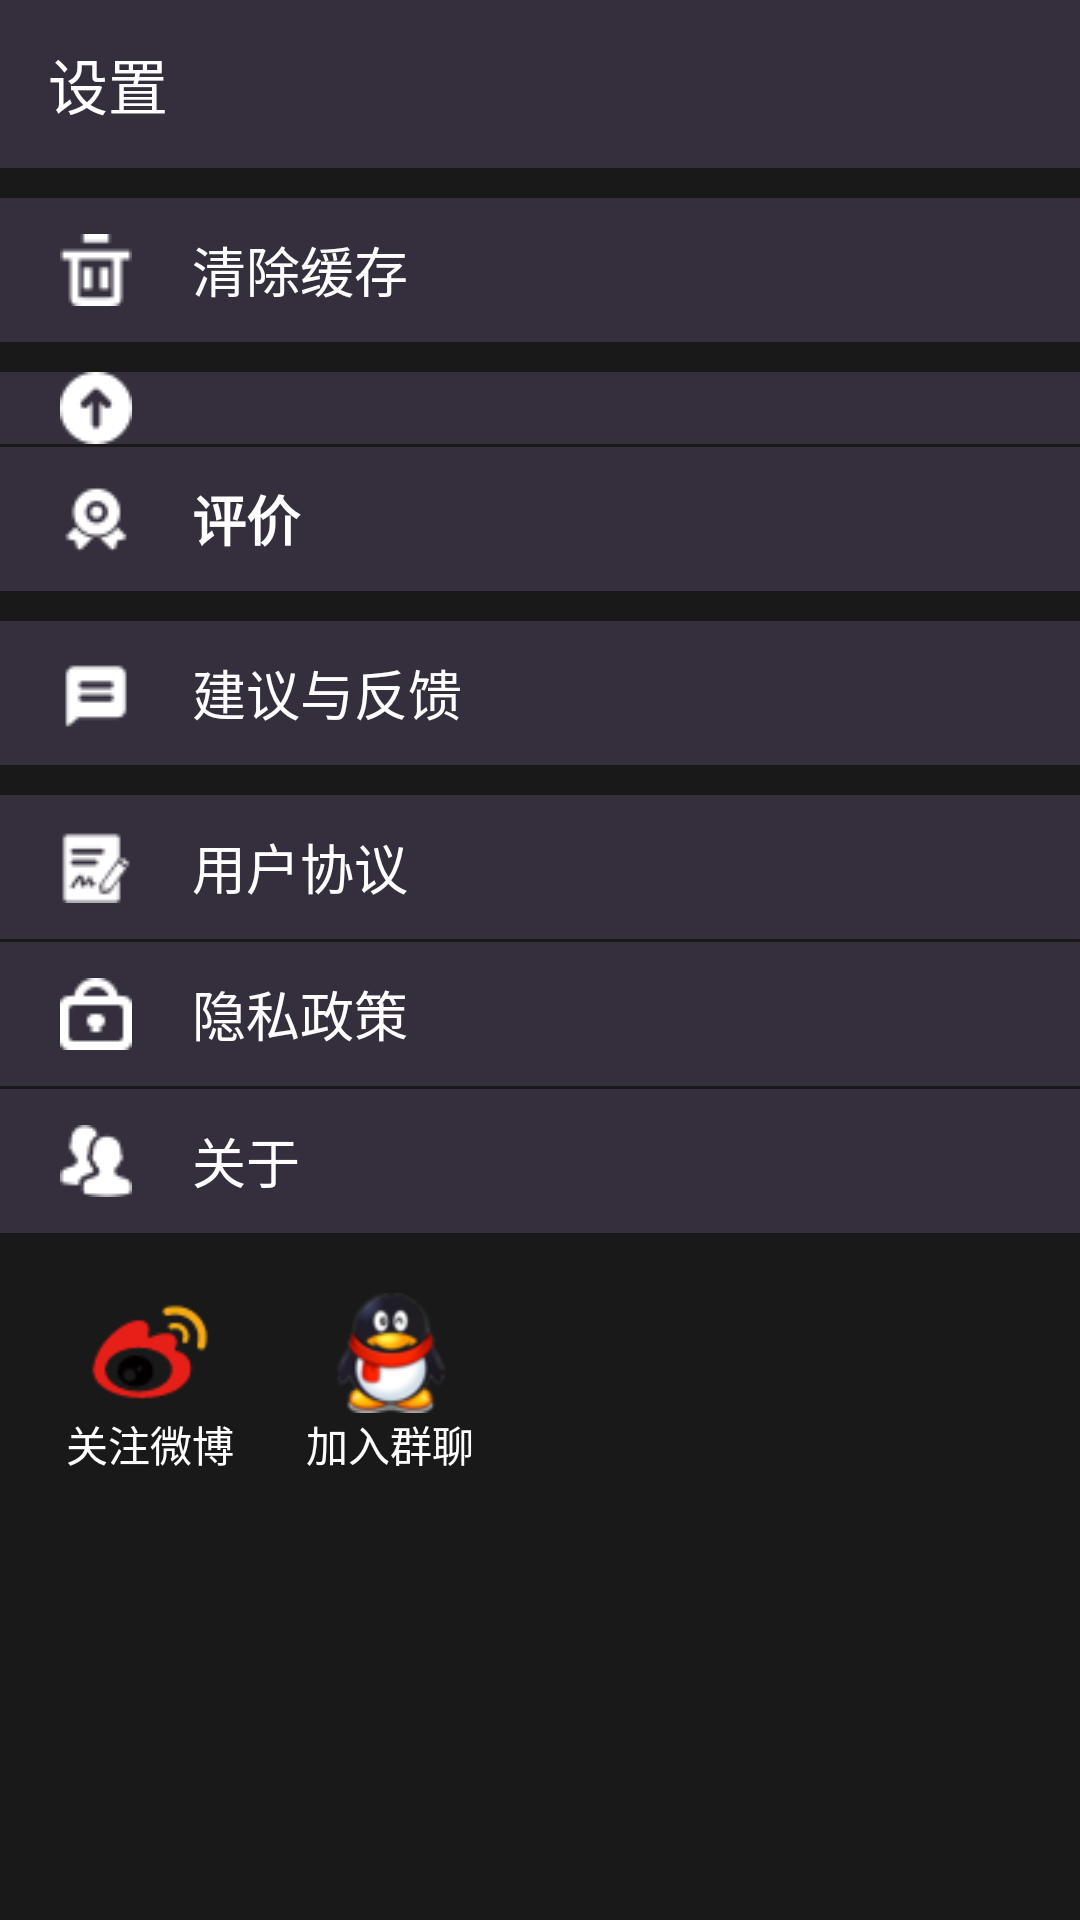

Where to tap for icons on this 1080x1920 app screen, as point (x, y):
agreement: point (96, 868)
clean: point (96, 270)
favorable: point (96, 519)
feedback: point (96, 696)
privacy: point (96, 1014)
update: point (96, 408)
